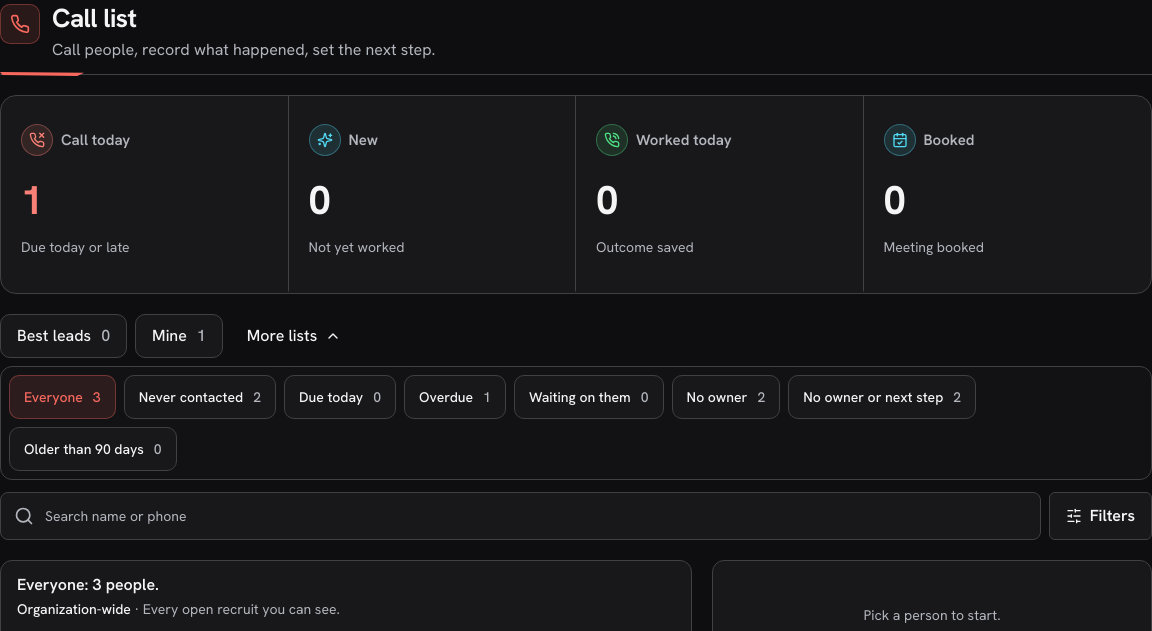
Test: RecruitingWorklist data status (F29) › one scope line; provenance sits inside the Data status disclosure and reads complete
Expected: the heading "Call list" is shown, [52,2,137,34]
Expected: the text "Organization-wide" is shown, [17,600,131,618]
Step 1. Click the button "Filters" → click(1100, 516), box [1049,492,1151,540]
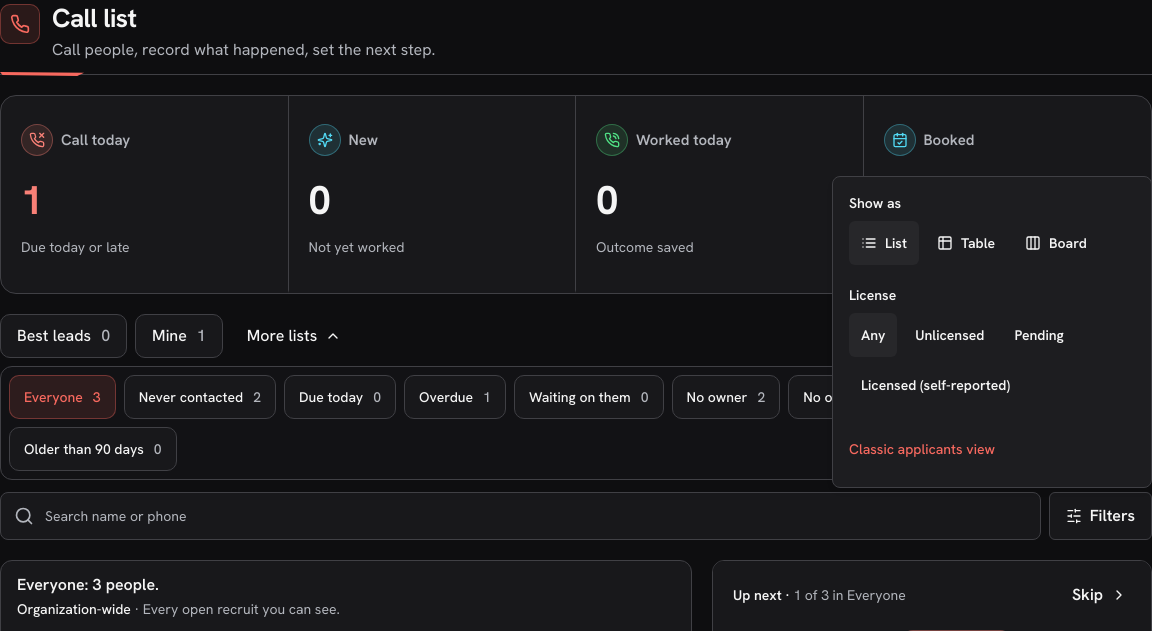
Now the link "Classic applicants view" is shown, box [849,440,995,458]
